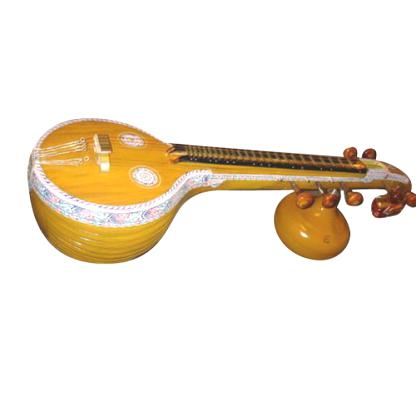Veena: (33, 117, 416, 256)
